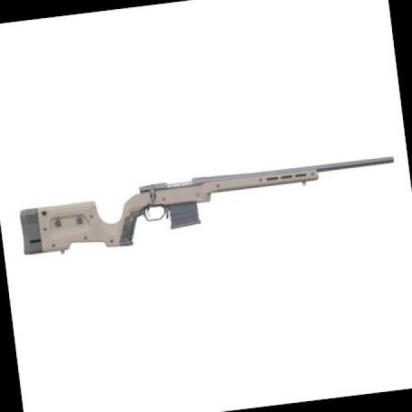Gun: (11, 150, 404, 266)
